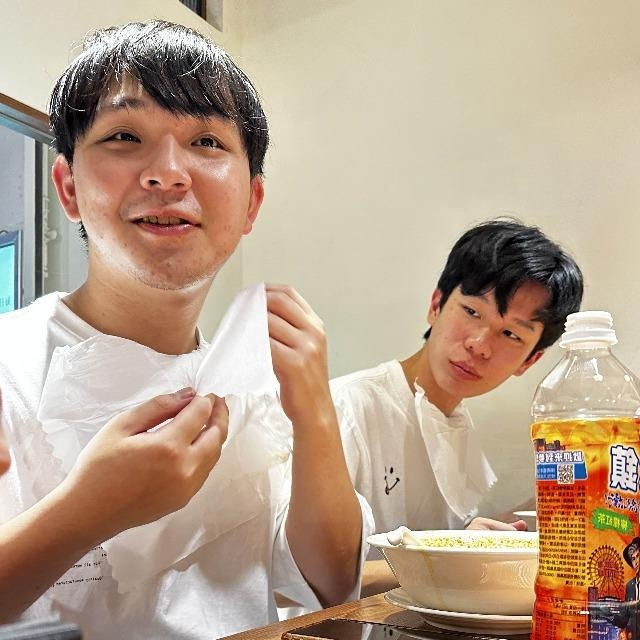Sin_Casco_Mascarrilla: (47, 23, 271, 295), (426, 218, 583, 398)
